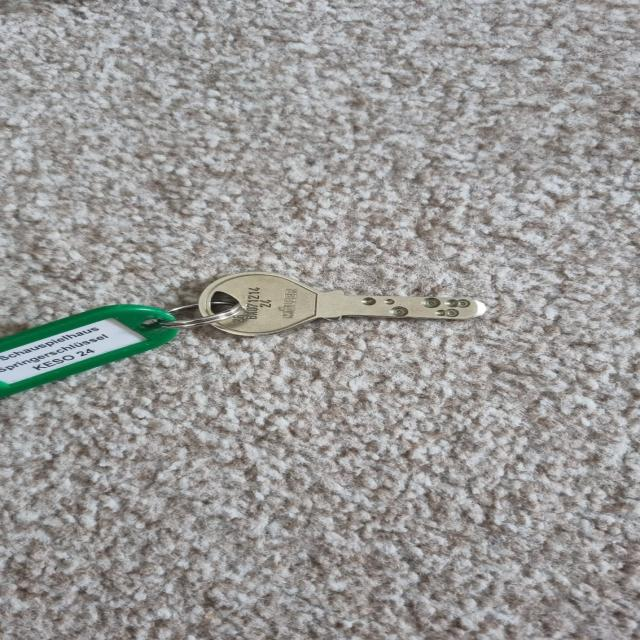Key: (198, 274, 487, 339)
